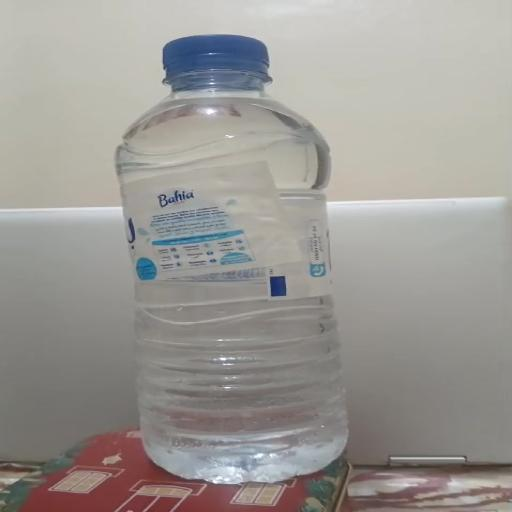bouteille conformite: (107, 26, 381, 493)
